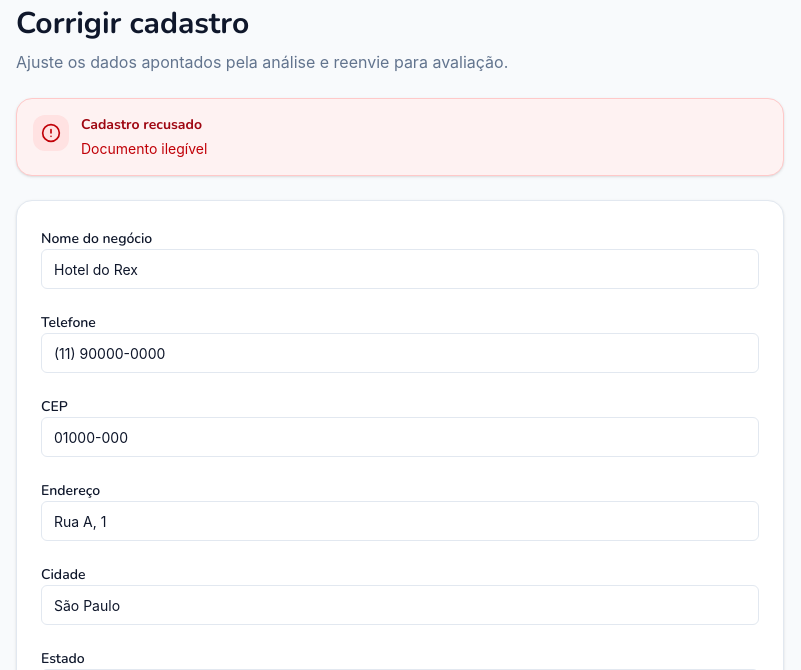
Scenario: erro ao salvar preserva os dados e não tenta reenviar
Check: the heading "Cadastro recusado" is shown, box 81,115 -> 207,135
Replace the text in the field labelled "Nome do negócio" with "Correção QA". click: (400, 269)
box: 41,249 -> 759,289
(page scrolled)
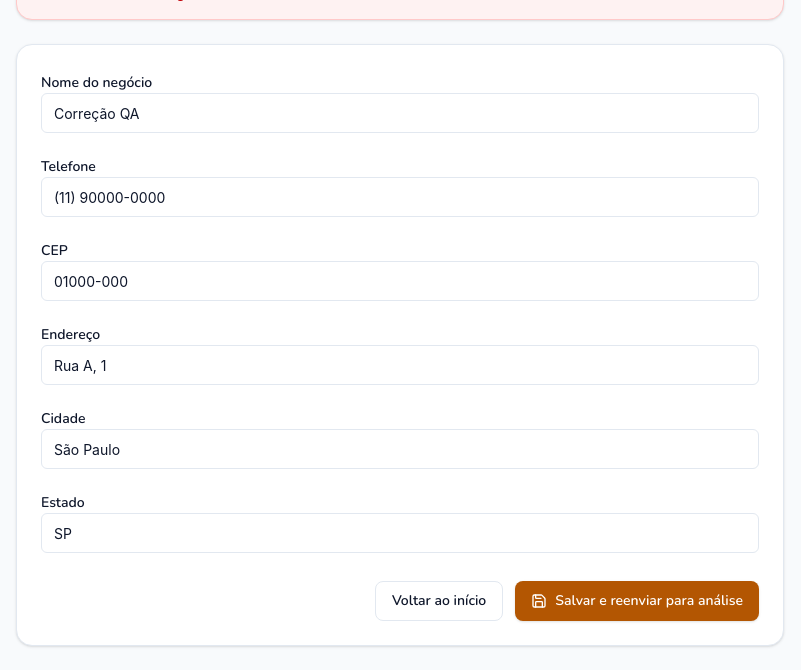
Click the button "Salvar e reenviar para análise". click: (637, 601)
box: 515,581 -> 759,621
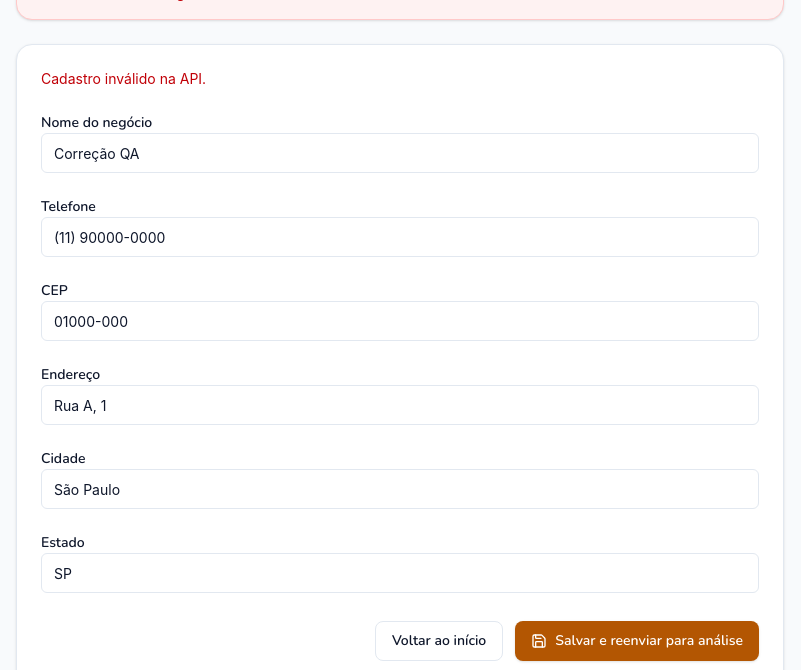
Check: the text "Cadastro inválido na API." is shown, box 41,70 -> 206,87
